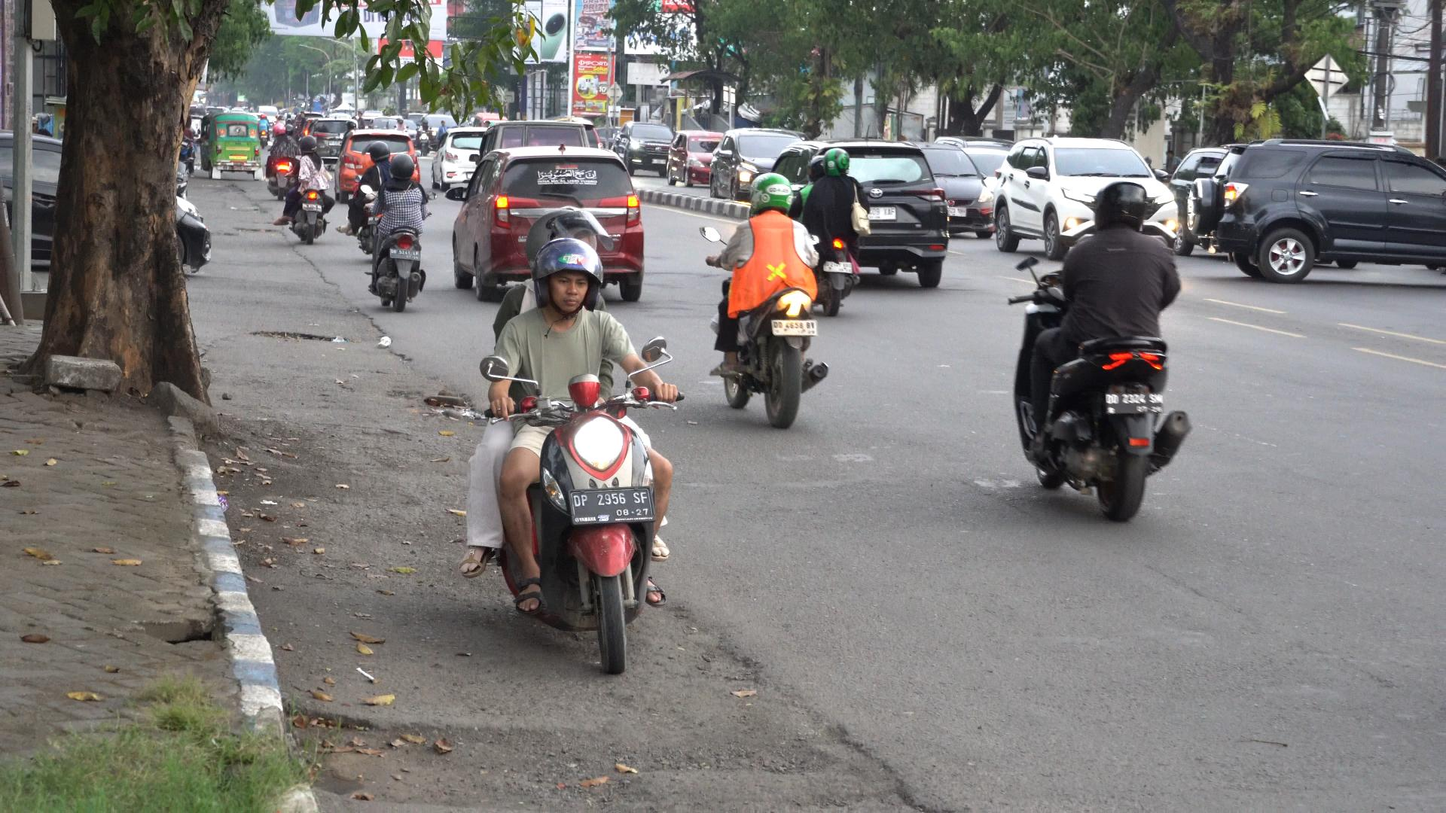number-plate: (560, 484, 659, 527)
